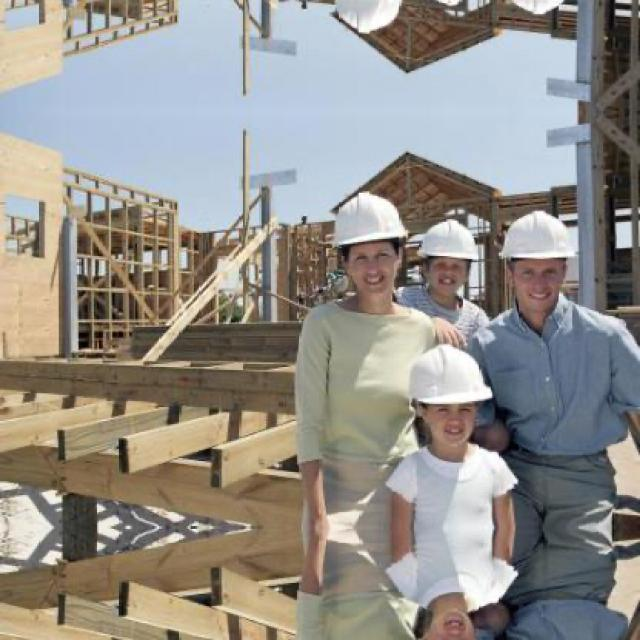helmet: (399, 342, 503, 463), (323, 193, 417, 304), (492, 202, 585, 310), (409, 215, 486, 302), (397, 594, 503, 638), (323, 0, 419, 34), (490, 0, 584, 25)
